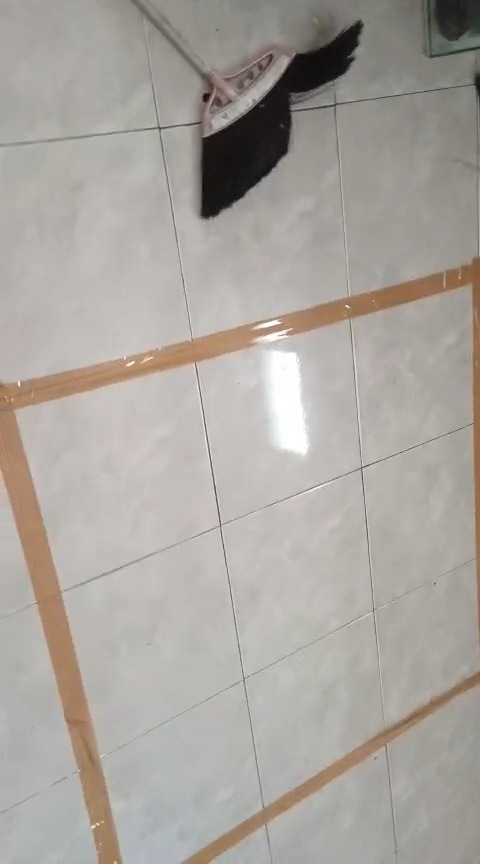floor marking: (0, 258, 479, 863), (189, 672, 479, 863)
